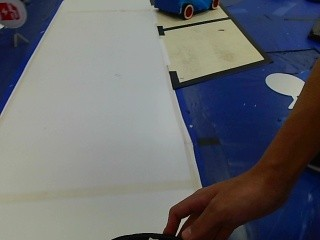battery: (0, 0, 24, 33)
car: (148, 0, 228, 21)
